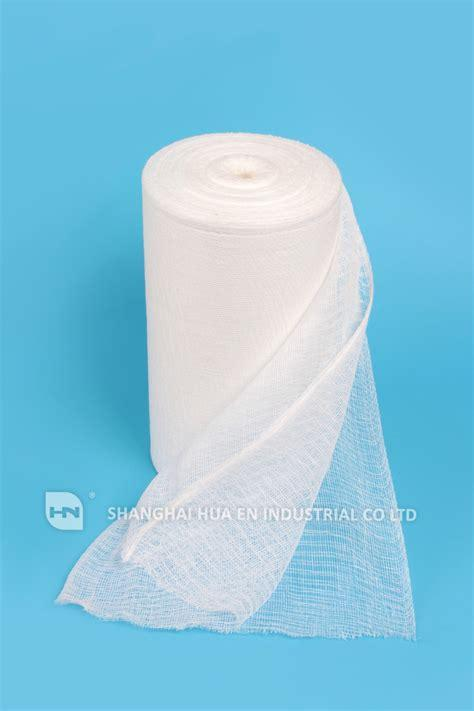bandage: (104, 135, 409, 629)
